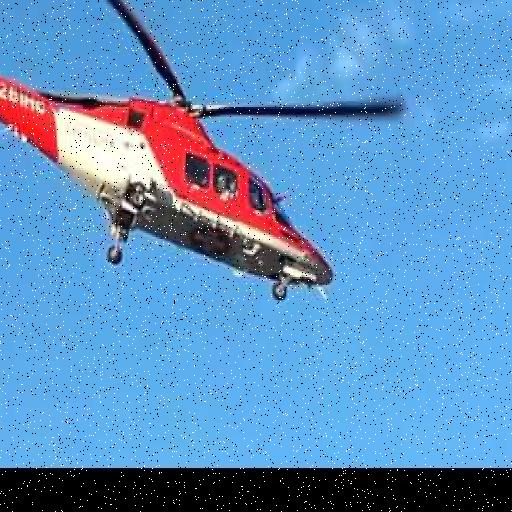helicopter: (1, 1, 408, 312)
